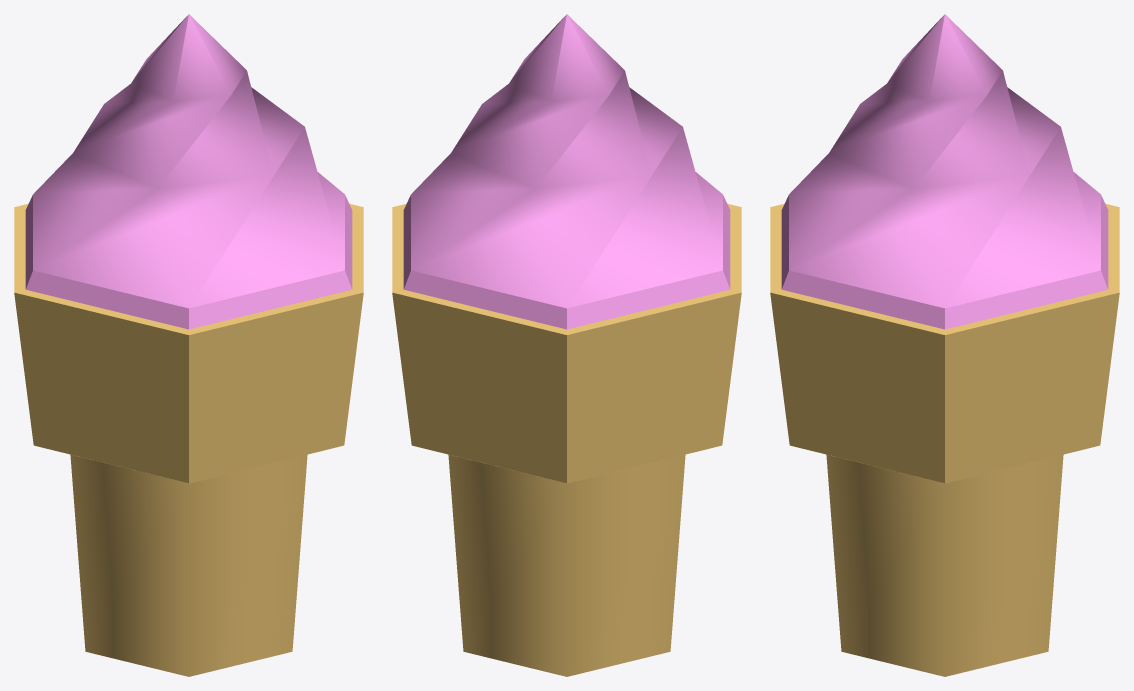
Rendered from Unwrapped_IceCream2.fbx.
3 views of the same model, side by side, from view 1: azimuth 30°, elevation 25°; view 2: azimuth 150°, elevation 25°; view 3: azimuth 270°, elevation 25° (orthographic).
Parts seen in each view (by area): view 1: Cylinder017; view 2: Cylinder017; view 3: Cylinder017.
Part boxes in pixels (box(x1,y1,x2,y2)): Cylinder017: box(14, 14, 363, 676); Cylinder017: box(392, 14, 741, 676); Cylinder017: box(770, 14, 1119, 676).
Bounding box in the file's own units: 25.36 × 42.44 × 21.96.
